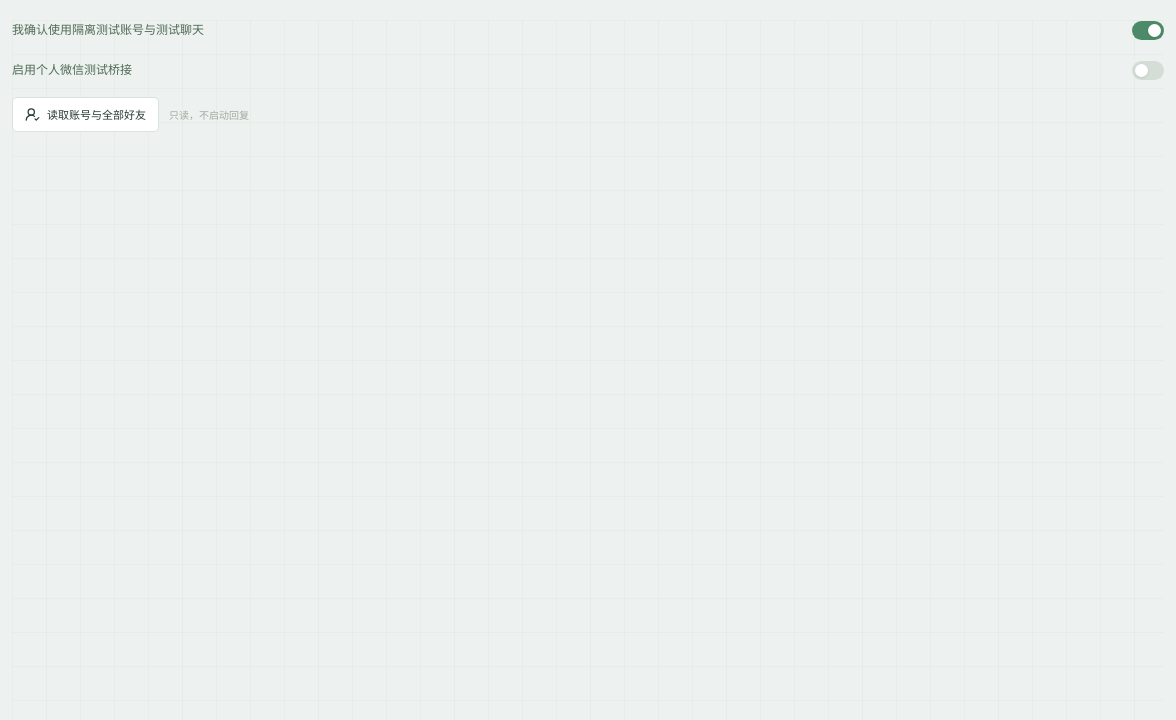
Test case: fills the internal account ID and selects a friend without manual wxid entry
Later steps or results of the test are not shown.
What coordinates should you click on to do the following:
click the button "读取账号与全部好友"
I would click on:
 (86, 114)
Its box is [12,97,159,132].
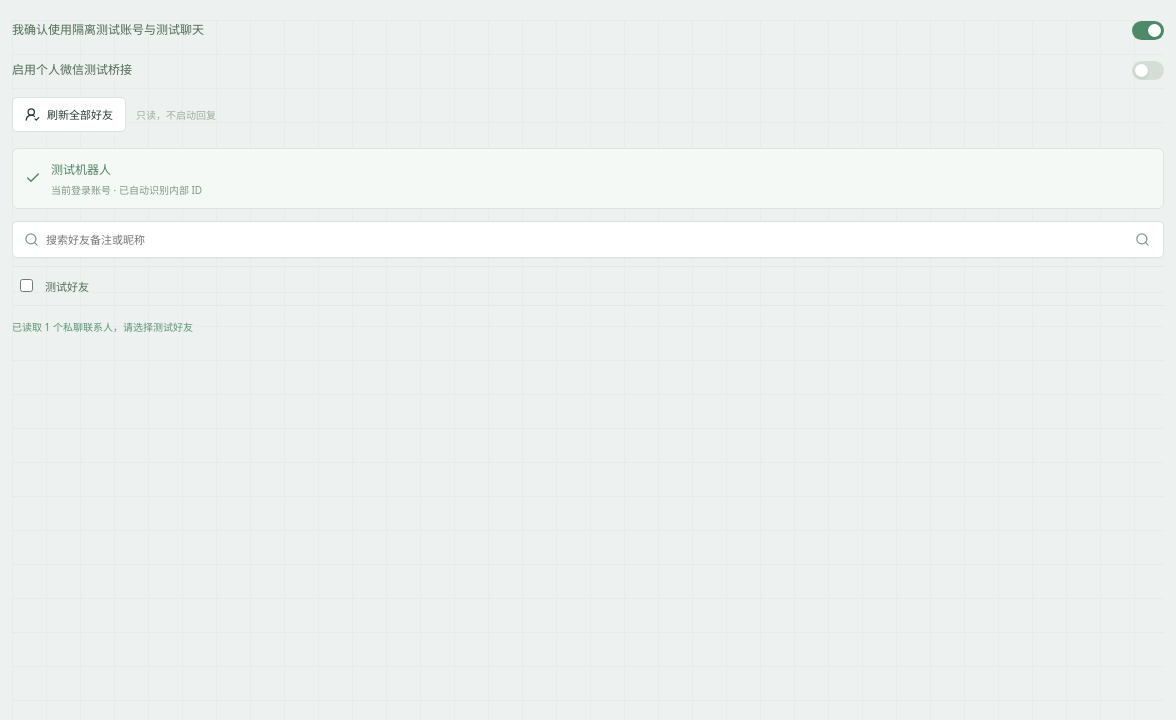
Check: the text "测试机器人" is shown, box [51,161,111,178]
